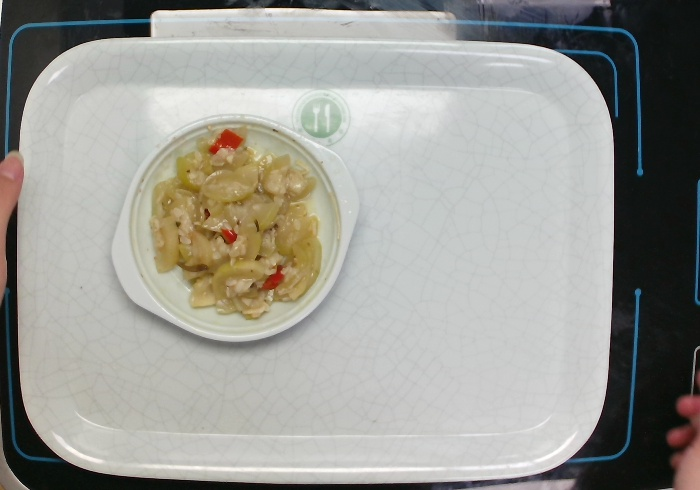JYsf-Shuang_Er_Pan: (109, 110, 361, 347)
